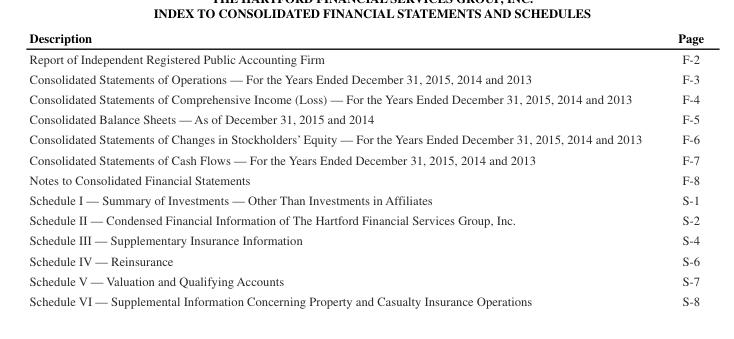table: (28, 29, 703, 308)
table column: (28, 29, 659, 308), (659, 29, 703, 308)
table column header: (28, 29, 703, 47)
table row: (28, 87, 703, 108), (28, 188, 703, 209), (28, 47, 703, 67), (28, 67, 703, 87), (28, 108, 703, 128), (28, 128, 703, 148), (28, 148, 703, 168), (28, 168, 703, 188), (28, 209, 703, 229), (28, 229, 703, 249), (28, 249, 703, 269), (28, 269, 703, 289), (28, 289, 703, 308), (28, 29, 703, 47)
